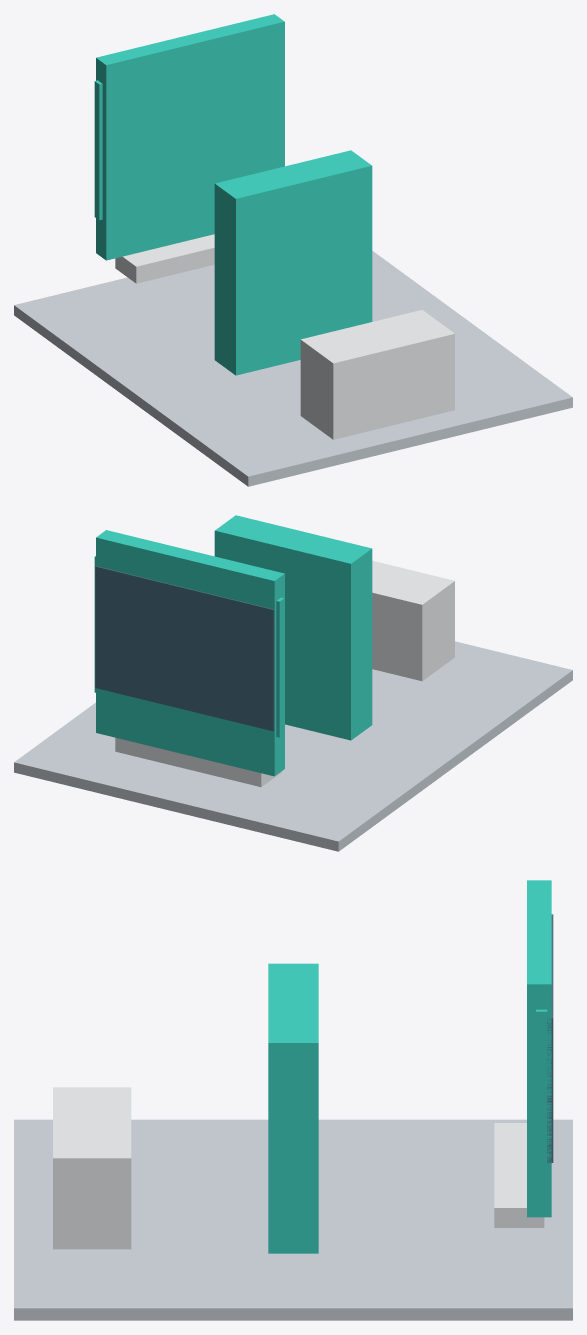
3 views of the same model, one above another, from view 1: azimuth 30°, elevation 25°; view 2: azimuth 150°, elevation 25°; view 3: azimuth 270°, elevation 25° (orthographic). The views are drawn at different scales.
Visible parts, largest first — view 1: Exhibition Booth Concept; view 2: Exhibition Booth Concept; view 3: Exhibition Booth Concept.
Part boxes in pixels (x1=…): Exhibition Booth Concept: x1=14, y1=14, x2=572, y2=486; Exhibition Booth Concept: x1=14, y1=515, x2=572, y2=851; Exhibition Booth Concept: x1=14, y1=880, x2=572, y2=1320.
Size of the model in its own units: 4 by 2.9 by 5.
